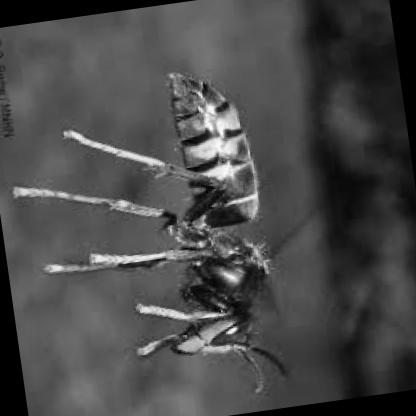asian: (4, 65, 318, 415)
